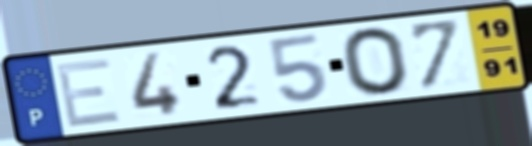2: (203, 43, 264, 112)
4: (128, 49, 186, 119)
5: (264, 31, 332, 105)
7: (408, 15, 464, 92)
E: (52, 55, 125, 130)
O: (337, 24, 414, 98)
